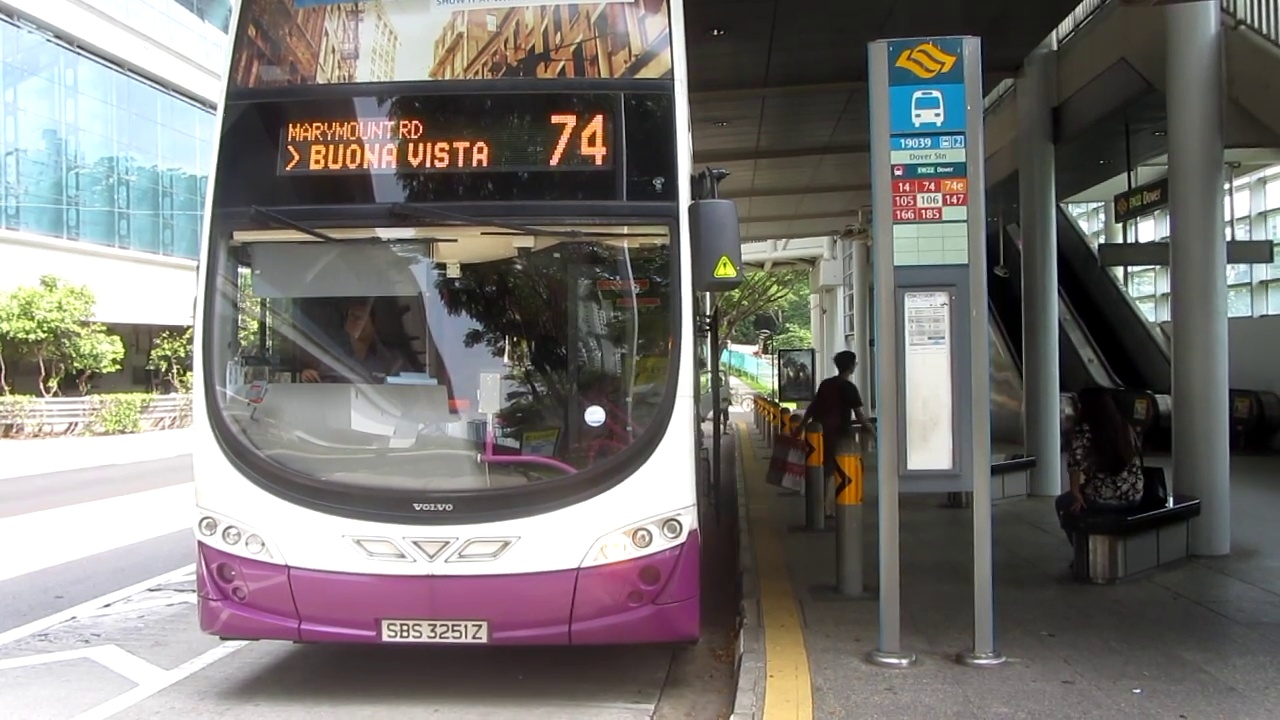bus panel: (274, 108, 619, 180)
